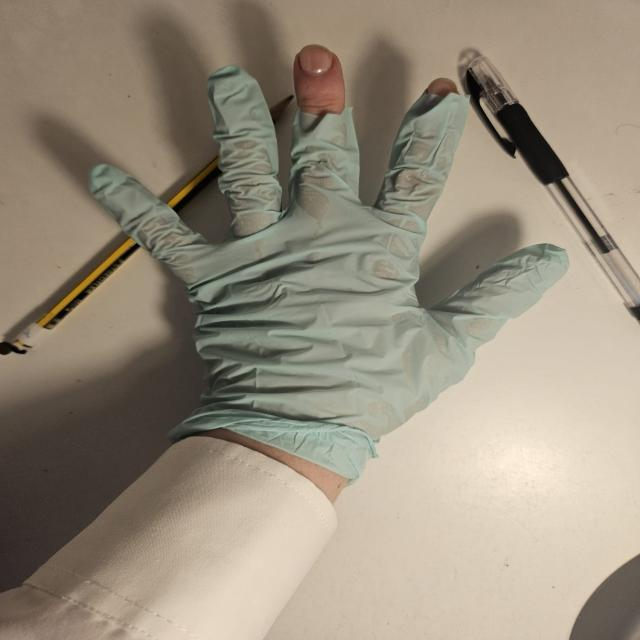gloves_damaged: (84, 39, 581, 486)
